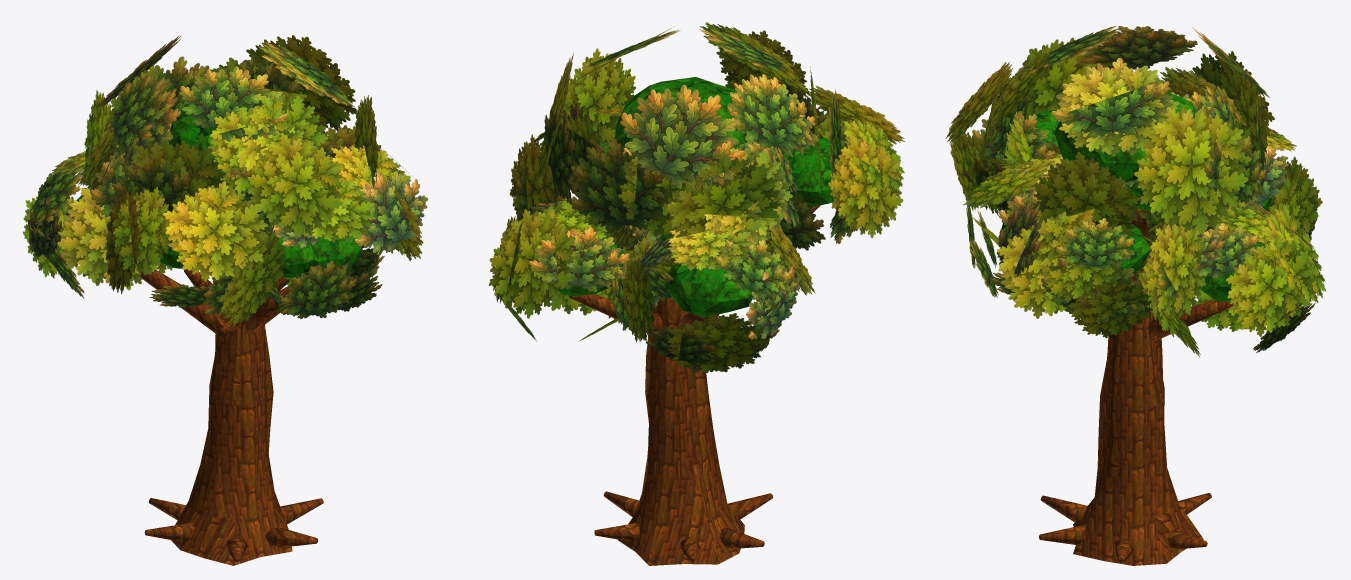
File: tree_oak.glb
3 renders of one model, left to right at view 1: azimuth 30°, elevation 25°; view 2: azimuth 150°, elevation 25°; view 3: azimuth 270°, elevation 25°, orthographic. The views are drawn at different scales.
Parts seen in each view (by area): view 1: tree_cards_b, tree_cards_a, tree_bark, tree_core; view 2: tree_cards_b, tree_cards_a, tree_bark, tree_core; view 3: tree_cards_b, tree_cards_a, tree_bark, tree_core.
Part boxes in pixels (left/top/right/bottom): tree_cards_b: left=23, top=35, right=423, bottom=325; tree_cards_a: left=27, top=35, right=428, bottom=319; tree_bark: left=139, top=268, right=323, bottom=565; tree_core: left=69, top=104, right=361, bottom=278; tree_cards_b: left=489, top=22, right=904, bottom=373; tree_cards_a: left=493, top=29, right=858, bottom=365; tree_bark: left=568, top=205, right=820, bottom=565; tree_core: left=548, top=77, right=843, bottom=317; tree_cards_b: left=946, top=37, right=1325, bottom=357; tree_cards_a: left=962, top=26, right=1318, bottom=352; tree_bark: left=1039, top=206, right=1237, bottom=565; tree_core: left=1001, top=92, right=1271, bottom=301.
Bounding box in the file's own units: 16.66 × 23.46 × 16.18.
Materials: 4 (4 with a texture image).
